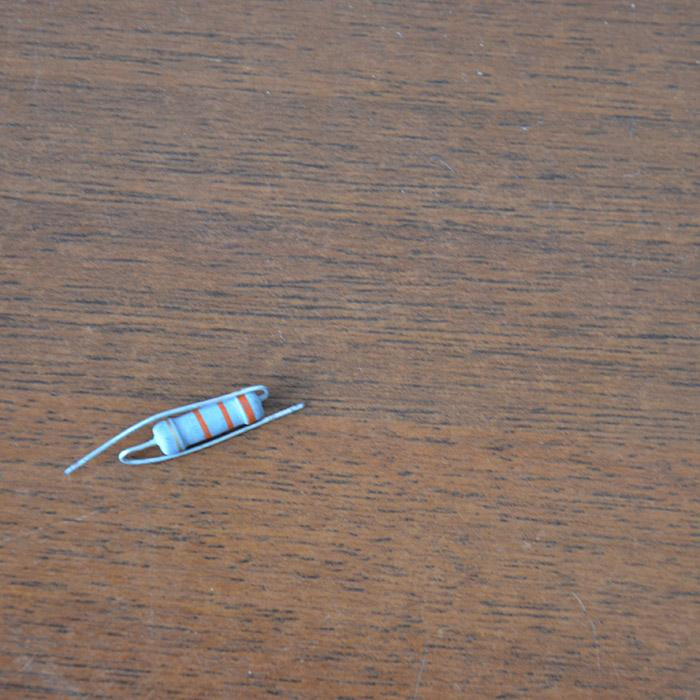resistor: (153, 389, 264, 455)
